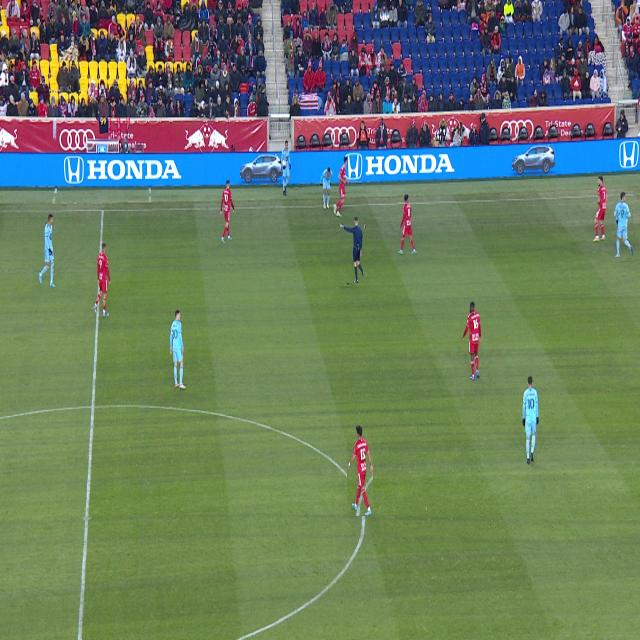player: (348, 425, 373, 516), (463, 302, 482, 381), (523, 377, 539, 464), (93, 242, 111, 316), (38, 214, 56, 287), (170, 310, 186, 389), (614, 192, 633, 258), (399, 194, 416, 254), (333, 157, 349, 217), (593, 176, 607, 241), (220, 180, 234, 243), (319, 168, 333, 209)
referee: (341, 218, 364, 283)
